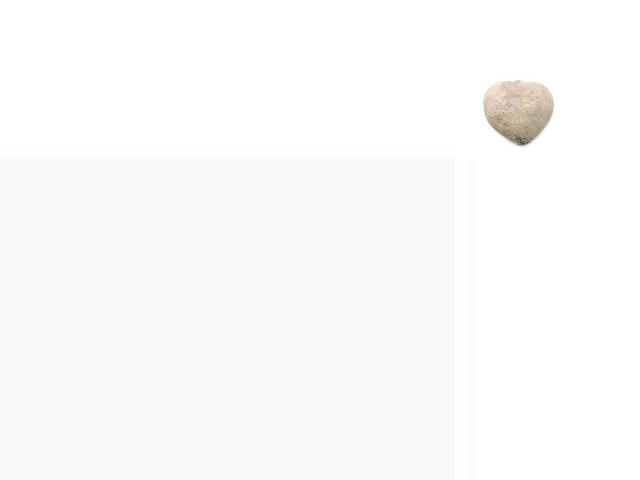beet: (482, 81, 553, 145)
